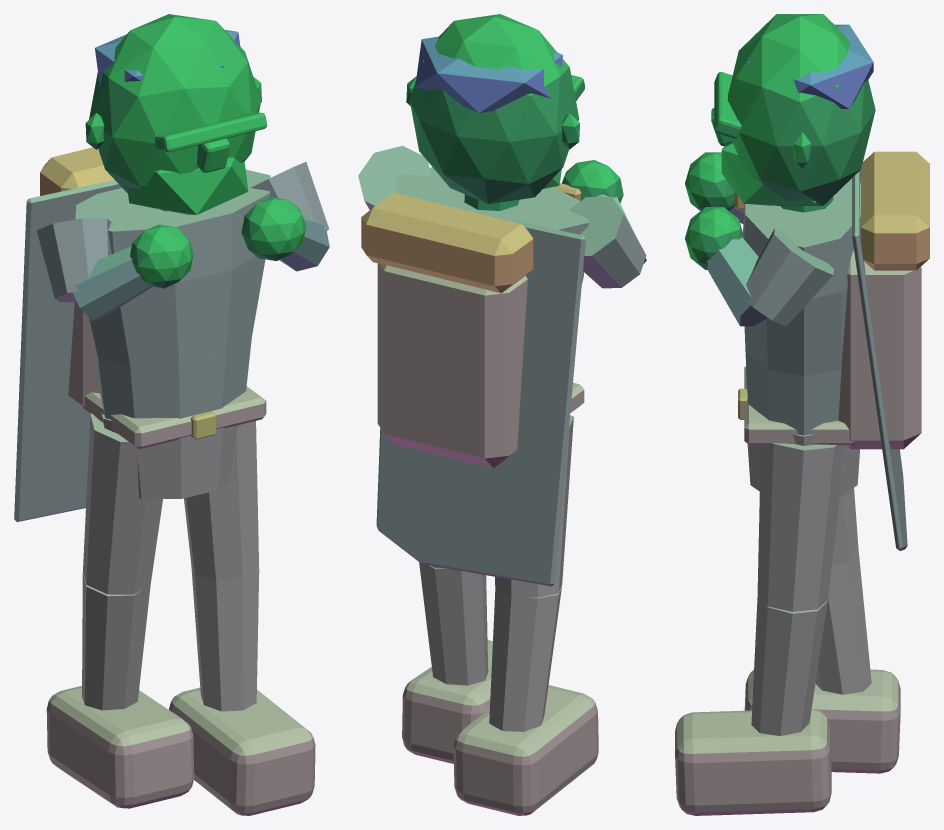
The model's file is npc_refugee_react_v01.glb.
The picture shows the model from 3 angles, left to right: view 1: azimuth 30°, elevation 25°; view 2: azimuth 150°, elevation 25°; view 3: azimuth 270°, elevation 25°; orthographic projection.
Parts seen in each view (by area): view 1: GEO_npc_refugee_react_v01; view 2: GEO_npc_refugee_react_v01; view 3: GEO_npc_refugee_react_v01.
Part boxes in pixels (left/top/right/bottom): GEO_npc_refugee_react_v01: left=14, top=14, right=329, bottom=815; GEO_npc_refugee_react_v01: left=358, top=14, right=646, bottom=815; GEO_npc_refugee_react_v01: left=675, top=14, right=929, bottom=815.
Bounding box in the file's own units: 0.763 × 2.08 × 0.6277.
